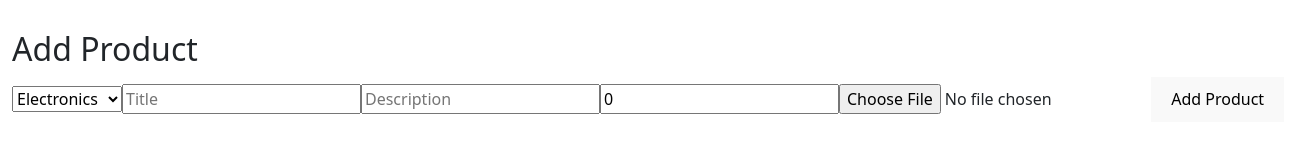
Test case: handles form submission error
This screenshot has width=1292, height=160.
Type "Test Product" into the field with placeholder "Title". click: point(242, 99)
box: [122,84,361,114]
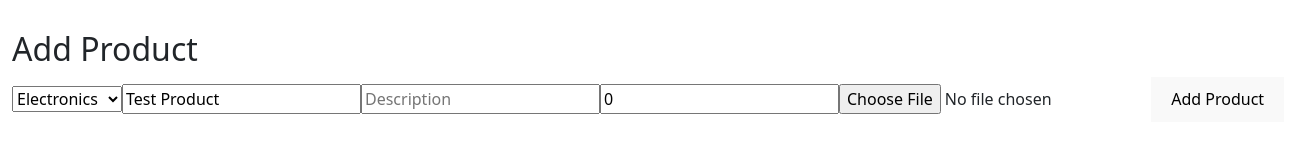
Click the button "Add Product". click: point(1218, 99)
box: [1151,77,1284,122]
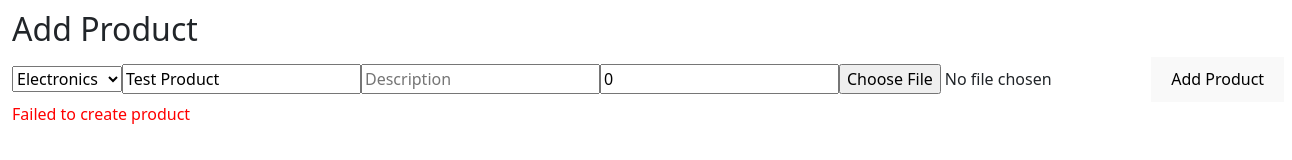
Expected: the text "Failed to create product" is shown, [12,103,190,125]
